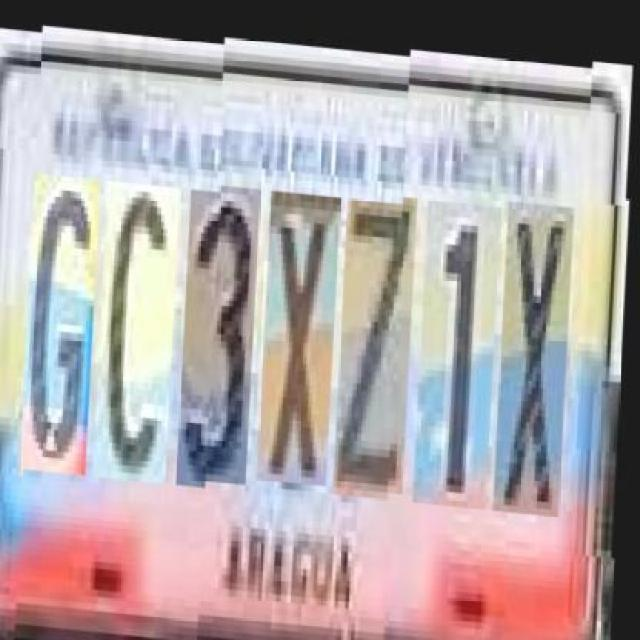1: (418, 191, 502, 498)
3: (182, 171, 262, 472)
c: (98, 165, 182, 466)
g: (25, 158, 103, 459)
x: (497, 190, 575, 505), (262, 178, 342, 472)
z: (338, 184, 419, 485)
